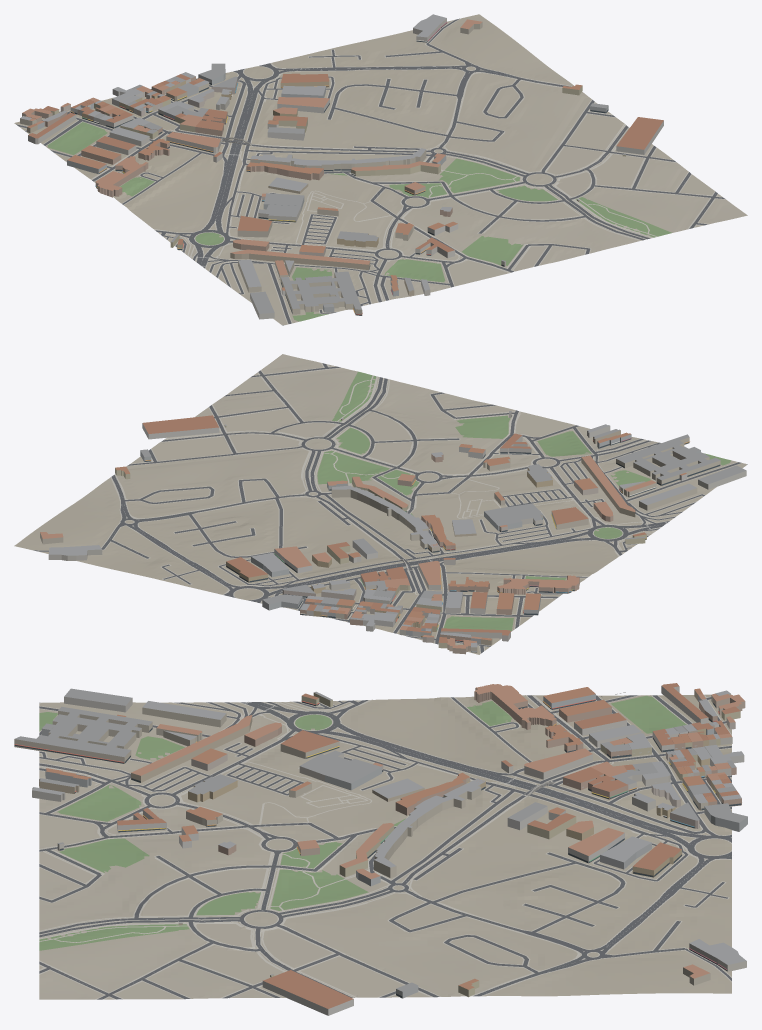
The picture shows the model from 3 angles, top to bottom: view 1: azimuth 30°, elevation 25°; view 2: azimuth 150°, elevation 25°; view 3: azimuth 270°, elevation 25°; orthographic projection. The views are drawn at different scales.
Parts seen in each view (by area): view 1: Ground, Roofs, Sidewalk, Road, Walls, Park, Detail; view 2: Ground, Roofs, Sidewalk, Road, Walls, Park, Detail; view 3: Ground, Roofs, Road, Sidewalk, Walls, Park, Detail.
Part boxes in pixels (box(x1,y1,x2,y2)): Ground: box(14, 14, 747, 324); Roofs: box(20, 14, 663, 313); Sidewalk: box(15, 18, 725, 325); Road: box(16, 18, 724, 325); Walls: box(20, 18, 663, 319); Park: box(47, 122, 671, 321); Detail: box(71, 22, 608, 315); Ground: box(14, 354, 746, 654); Roofs: box(40, 411, 746, 648); Sidewalk: box(31, 362, 746, 653); Road: box(33, 363, 747, 653); Walls: box(40, 411, 746, 654); Park: box(317, 371, 730, 630); Detail: box(144, 415, 720, 652); Ground: box(39, 694, 731, 999); Roofs: box(15, 683, 747, 1008); Road: box(39, 695, 731, 999); Sidewalk: box(39, 694, 731, 999); Walls: box(14, 686, 747, 1015); Park: box(39, 695, 686, 950); Detail: box(14, 699, 742, 997).
Bounding box in the file's own units: 1084 × 32.83 × 1059.
